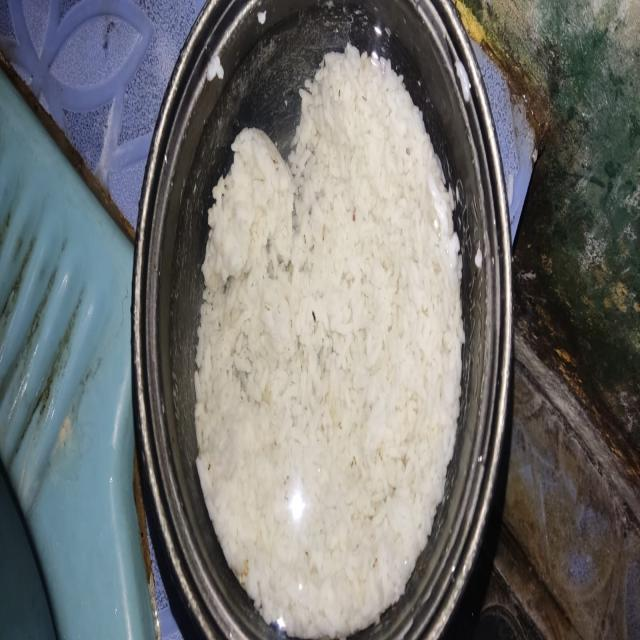organik: (203, 55, 455, 631)
